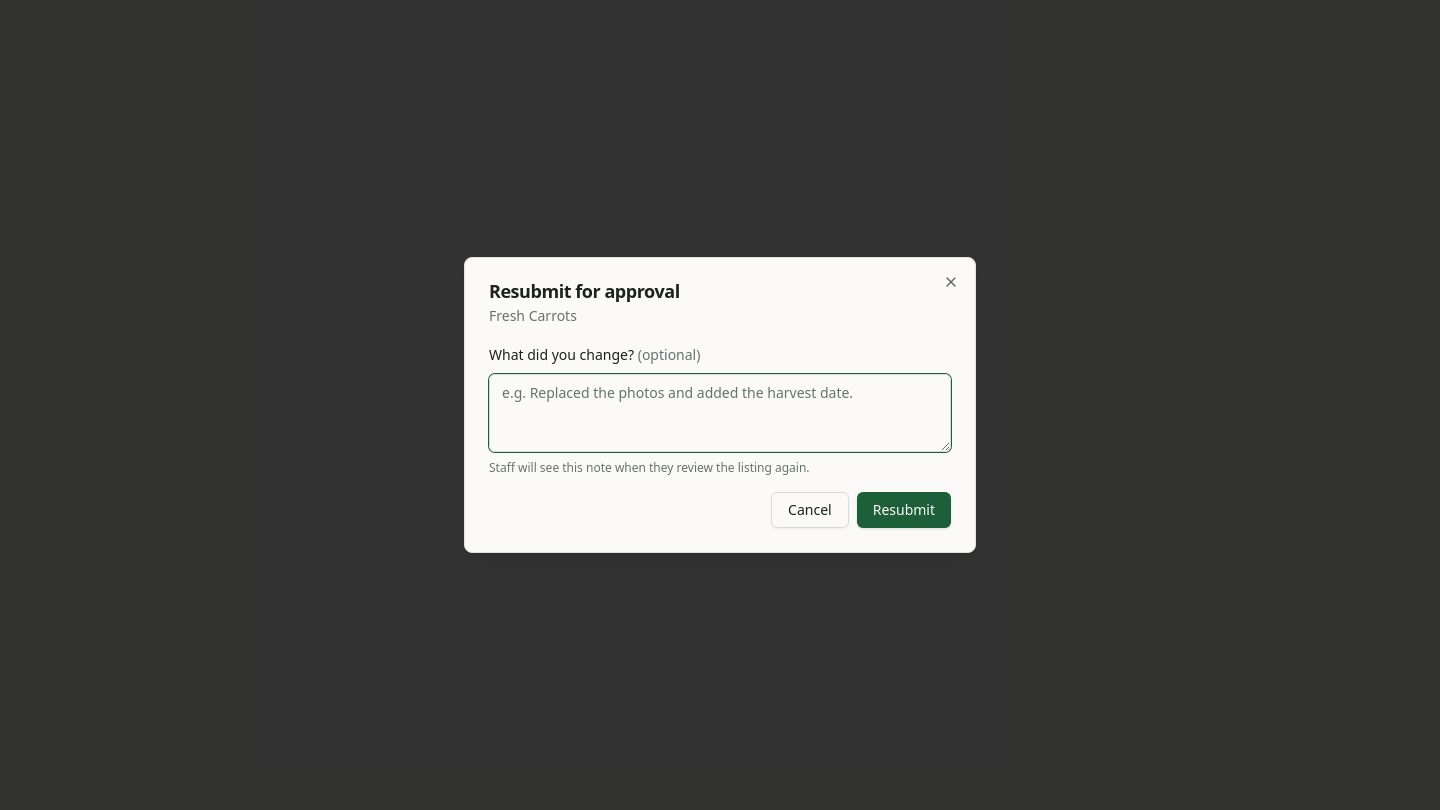
Test case: ResubmitDialog › shows the backend's reason when resubmitting is refused
This screenshot has width=1440, height=810.
Click the button "Resubmit".
click(904, 510)  # box left=857, top=492, right=951, bottom=528
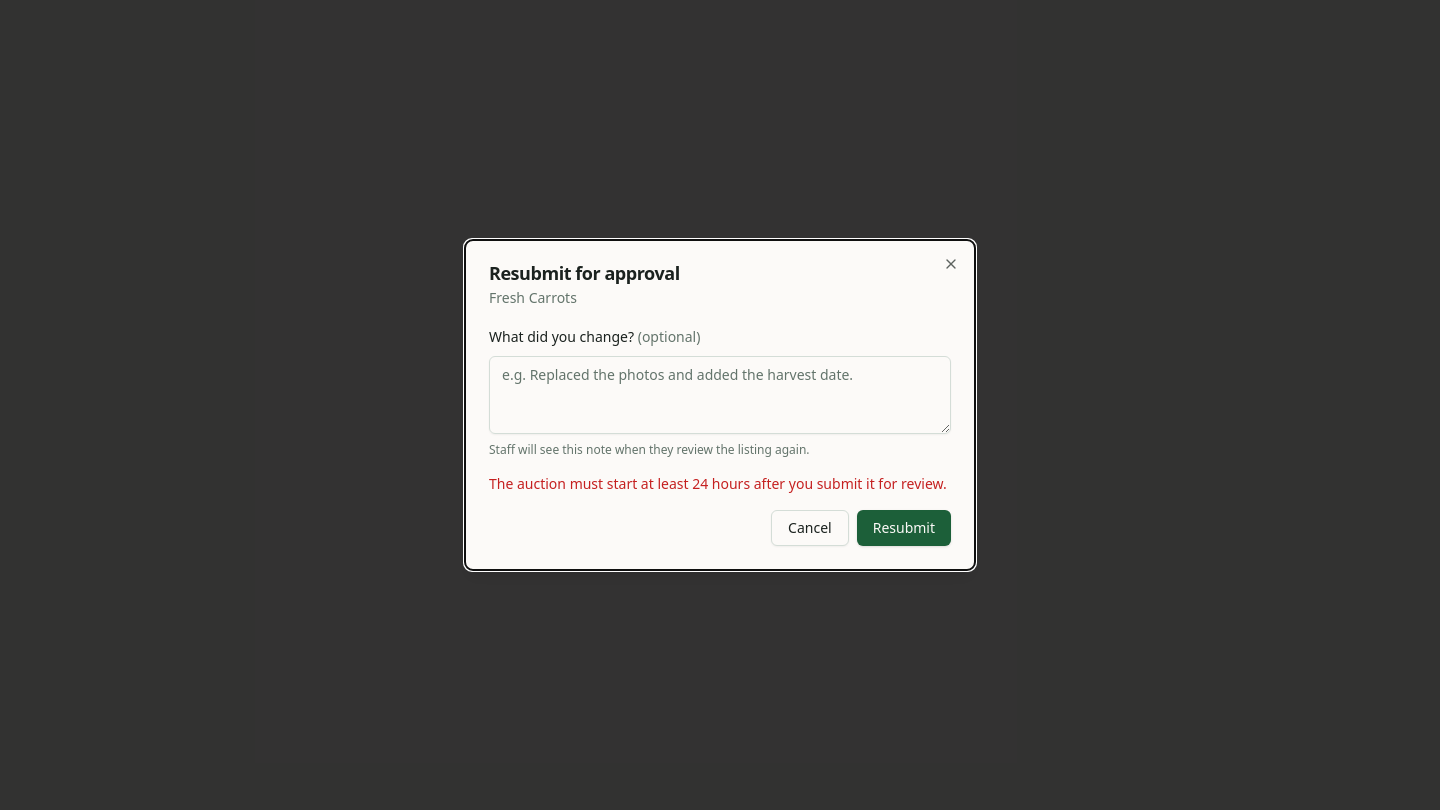
Expected: the message shows "at least 24 hours", left=489, top=474, right=947, bottom=493
